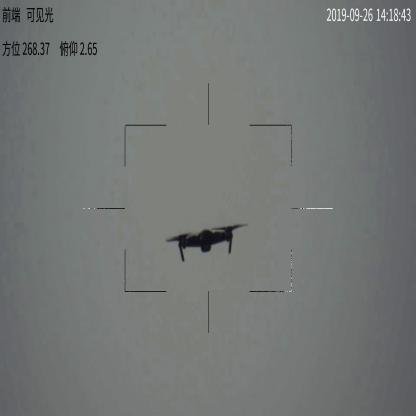uav: (163, 220, 249, 262)
